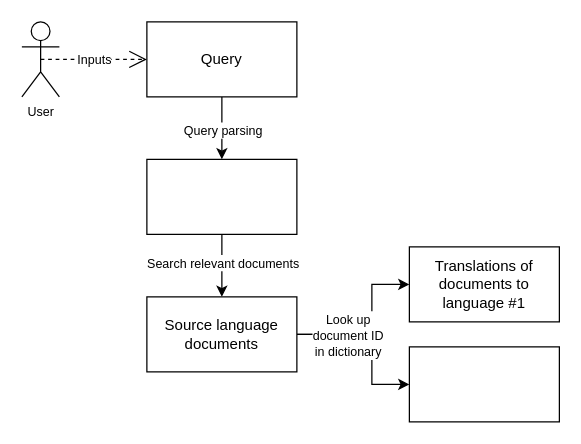
Image size: 581x444. Some labels were removed from this diagram. Each missing label, with the centre of its shape:
Parsed query: point 221,196
Translations of documents to language #2: point 483,384
